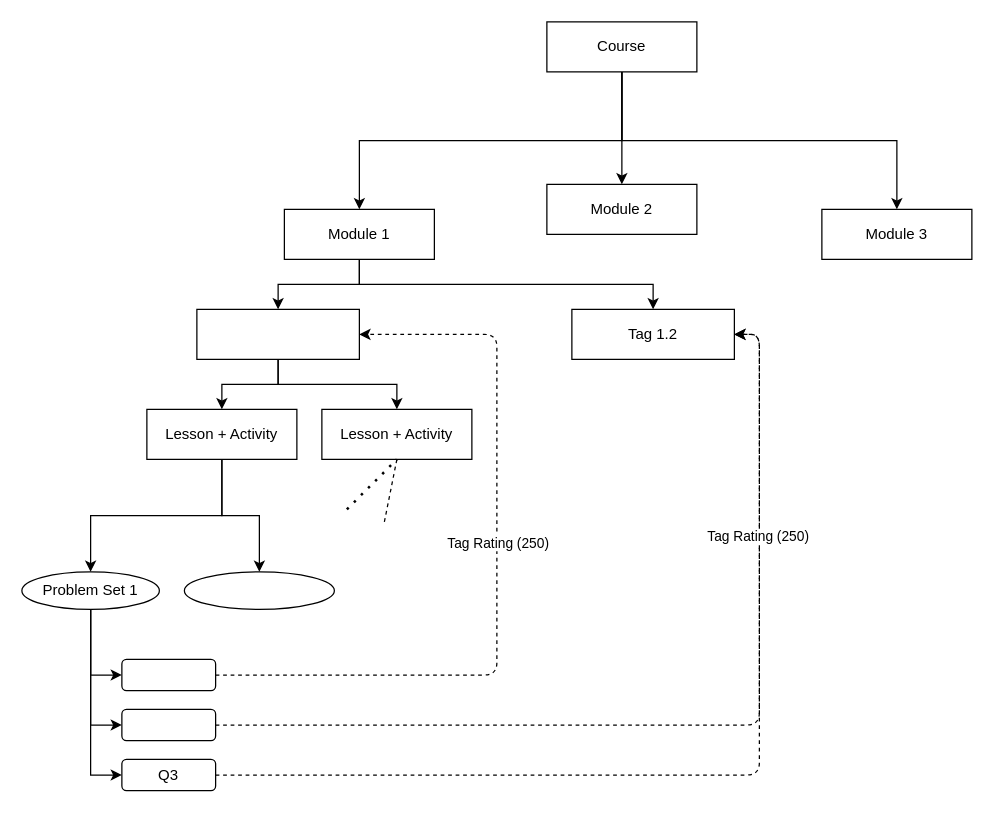
The diagram is 994 pixels wide and 813 high, and some of its shapes have lost their labels. Here are the shapes that lost their labels. From the top down, the box of each, then its label:
(196, 308, 359, 359): Tag 1.1
(183, 571, 334, 609): Problem Set 2
(121, 658, 216, 691): Q1
(121, 708, 216, 741): Q2
